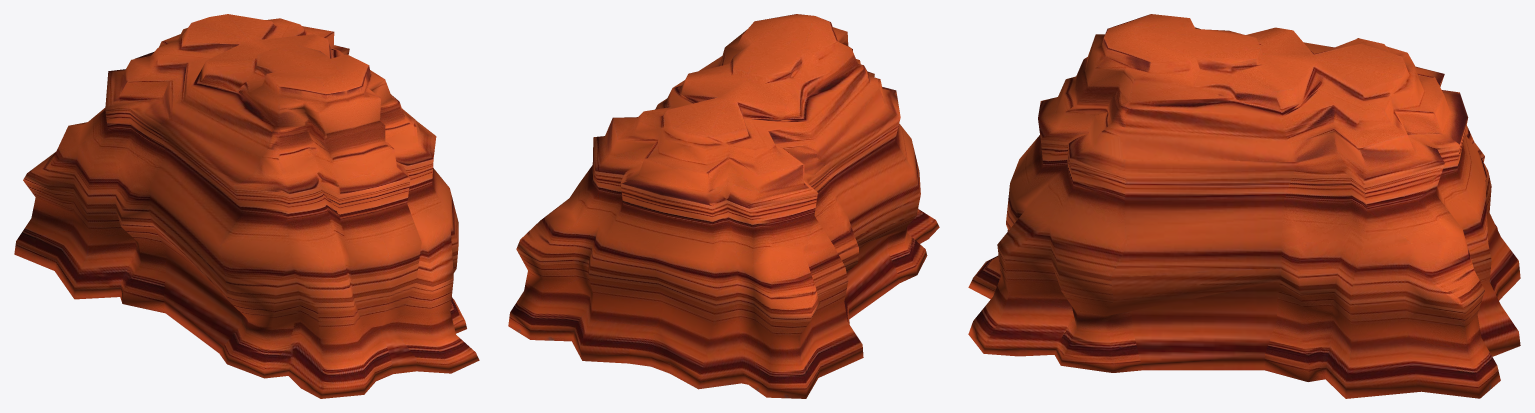
File: hills-claybank.glb
3 views of the same model, side by side, from view 1: azimuth 30°, elevation 25°; view 2: azimuth 150°, elevation 25°; view 3: azimuth 270°, elevation 25° (orthographic). The views are drawn at different scales.
Size of the model in its own units: 0.7134 by 0.5362 by 0.9575.
1 material, 1 textured.
